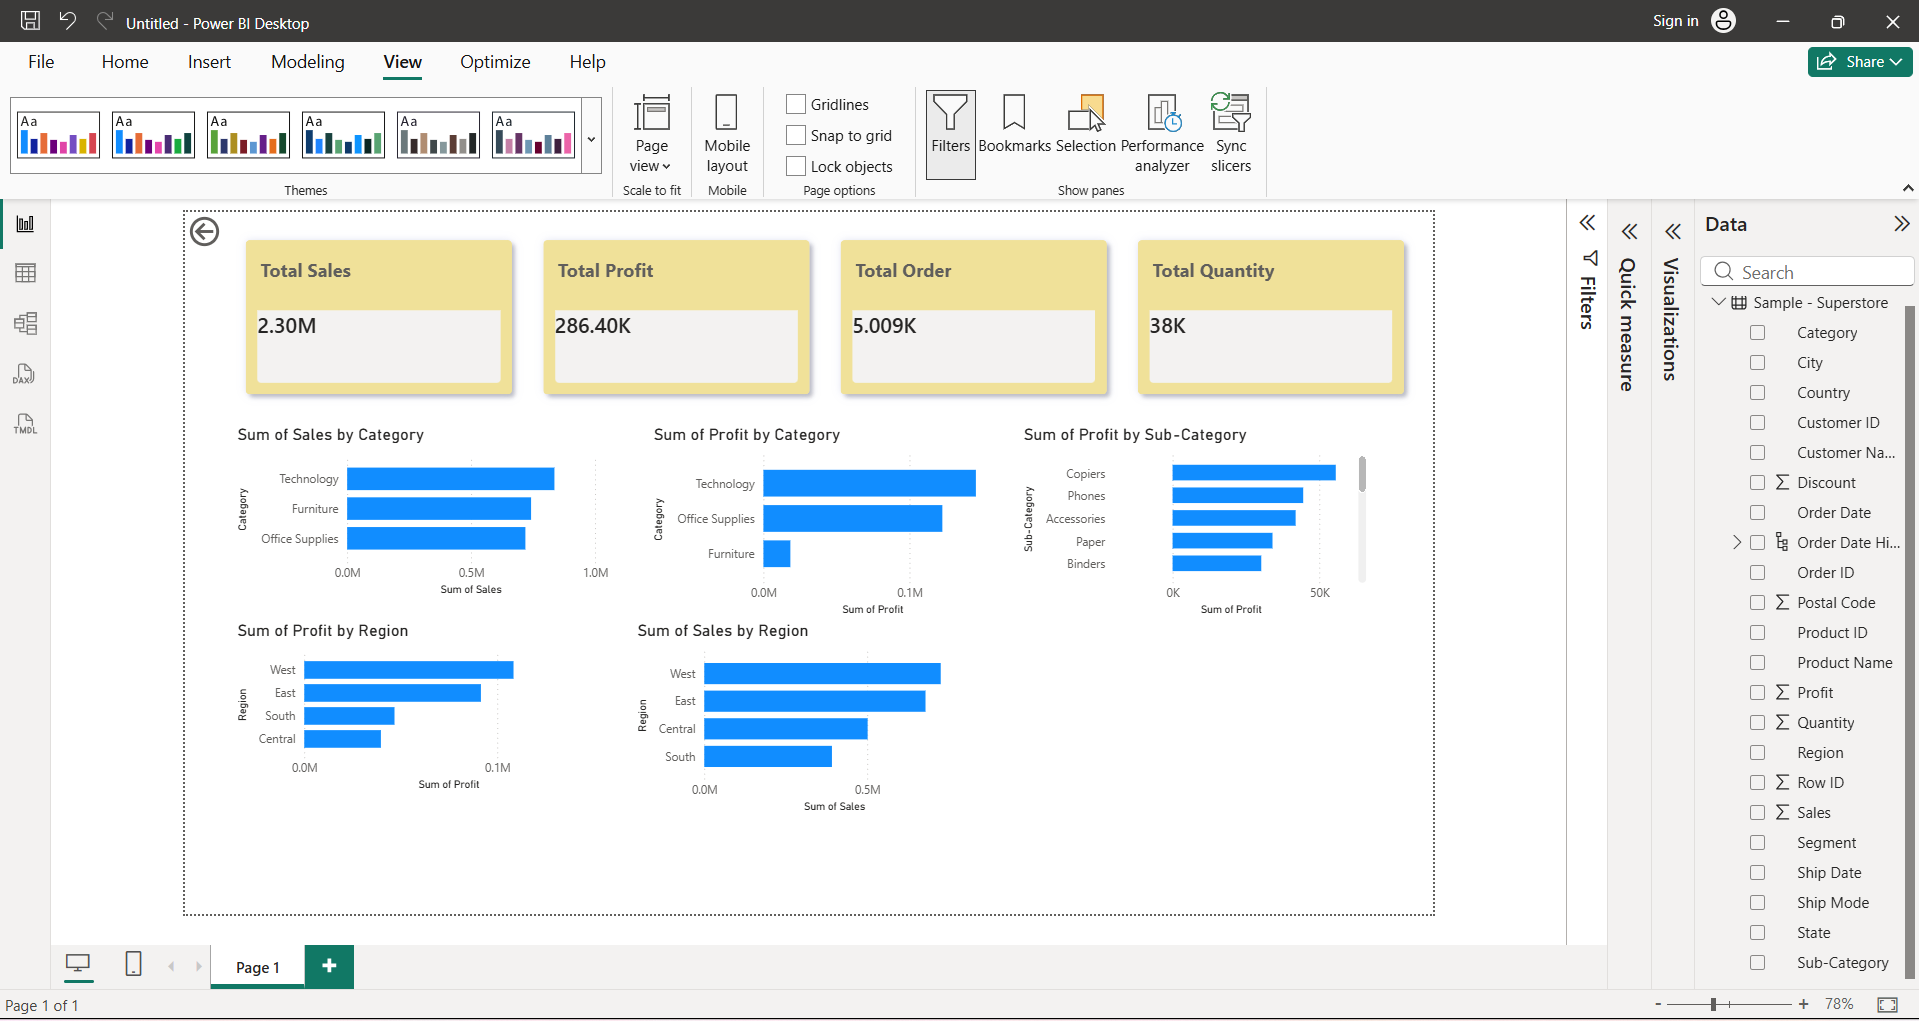

The page's visual inventory and layout, read from the dashboard file:
{"tool":"powerbi","page":{"name":"Page 1","canvas":[1280,720],"ordinal":0},"visuals":[{"type":"cardVisual","title":"Total Sales","fields":{"Data":["Sum(Sample - Superstore.Sales)","Sum(Sample - Superstore.Profit)","Count(Sample - Superstore.Order ID)","Sum(Sample - Superstore.Quantity)"]},"box":[33.3,0,1246.2,216.7],"z":0},{"type":"actionButton","box":[0,0,100,40],"z":2},{"type":"clusteredBarChart","fields":{"Category":["Sample - Superstore.Category"],"Y":["Sum(Sample - Superstore.Sales)"]},"box":[48.7,217.9,391,180.8],"z":3},{"type":"clusteredBarChart","fields":{"Category":["Sample - Superstore.Category"],"Y":["Sum(Sample - Superstore.Profit)"]},"box":[475.6,217.9,361.5,201.3],"z":4},{"type":"clusteredBarChart","fields":{"Category":["Sample - Superstore.Region"],"Y":["Sum(Sample - Superstore.Sales)"]},"box":[459,419.2,360.3,201.3],"z":5},{"type":"clusteredBarChart","fields":{"Y":["Sum(Sample - Superstore.Profit)"],"Category":["Sample - Superstore.Region"]},"box":[48.7,419.2,389.7,179.5],"z":6},{"type":"clusteredBarChart","fields":{"Category":["Sample - Superstore.Sub-Category"],"Y":["Sum(Sample - Superstore.Profit)"]},"box":[855.1,217.9,361.5,201.3],"z":7}]}

Visuals, with their boxes on the page's 1280x720 design canvas (x1, y1, x2, y2). These are canvas units, not pixel positions in the 1919x1021 screenshot, which may show the page scaled, cropped or inside an application window:
"Total Sales" cardVisual: l=33, t=0, r=1280, b=217
actionButton: l=0, t=0, r=100, b=40
clusteredBarChart - Sample - Superstore.Category x Sum(Sample - Superstore.Sales): l=49, t=218, r=440, b=399
clusteredBarChart - Sample - Superstore.Category x Sum(Sample - Superstore.Profit): l=476, t=218, r=837, b=419
clusteredBarChart - Sample - Superstore.Region x Sum(Sample - Superstore.Sales): l=459, t=419, r=819, b=620
clusteredBarChart - Sum(Sample - Superstore.Profit) x Sample - Superstore.Region: l=49, t=419, r=438, b=599
clusteredBarChart - Sample - Superstore.Sub-Category x Sum(Sample - Superstore.Profit): l=855, t=218, r=1217, b=419
